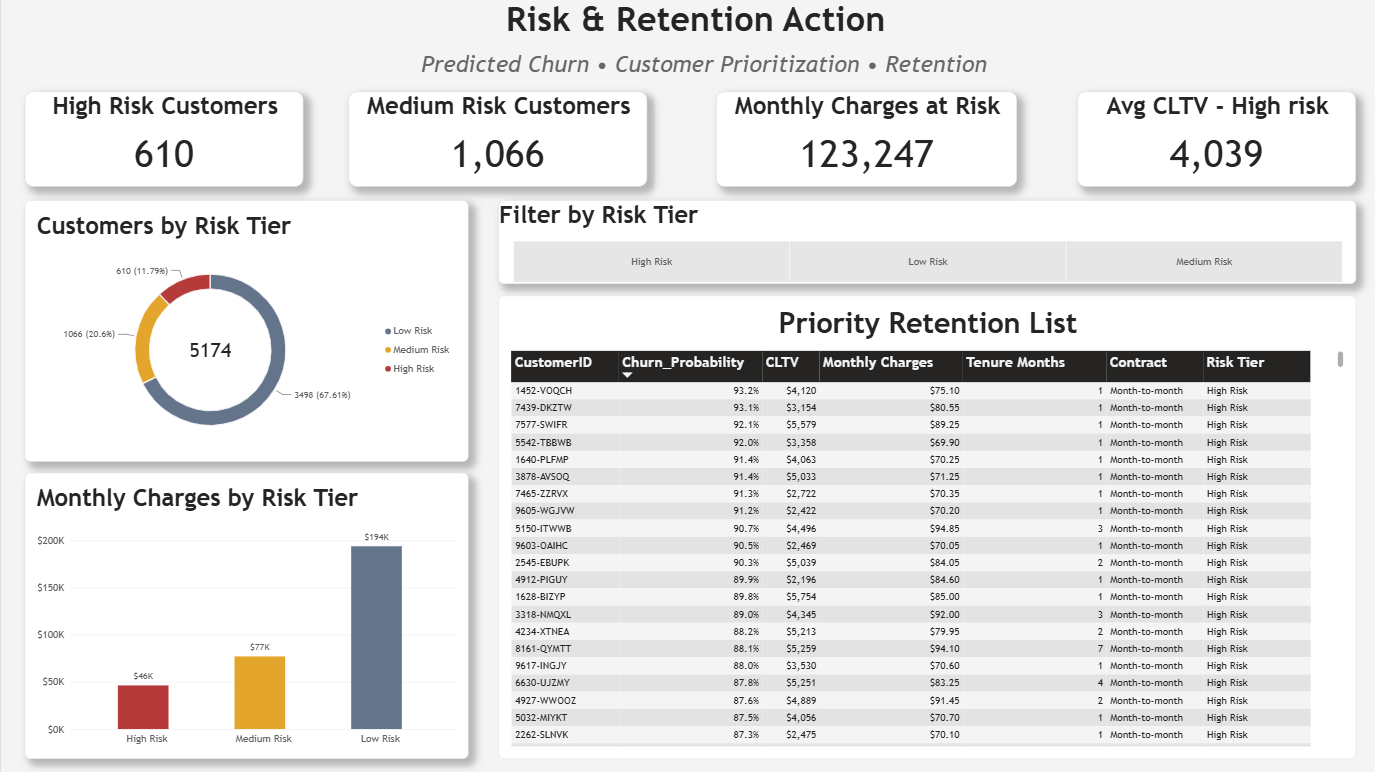

This screenshot's page, from the dashboard's own definition file:
{"tool":"powerbi","page":{"name":"Risk & Retention Action","canvas":[1920,1080],"ordinal":1},"visuals":[{"type":"textbox","box":[10.5,0,1909,129.1],"z":0},{"type":"cardVisual","title":"High Risk Customers","fields":{"Data":["risk_scored_customers.High Risk Customers"]},"box":[33.1,129.1,389,132.6],"z":1000},{"type":"cardVisual","title":"Medium Risk Customers","fields":{"Data":["risk_scored_customers.Medium Risk Customers"]},"box":[484.9,129.1,416.9,132.6],"z":2000},{"type":"cardVisual","title":"Monthly Charges at Risk","fields":{"Data":["risk_scored_customers.Monthly Revenue at Risk"]},"box":[997.7,129.1,420.4,132.6],"z":3000},{"type":"cardVisual","title":"Avg CLTV - High risk","fields":{"Data":["risk_scored_customers.Avg CLTV High Risk"]},"box":[1501.7,129.1,389,132.6],"z":4000},{"type":"donutChart","title":"Customers by Risk Tier","fields":{"Category":["risk_scored_customers.Risk Tier"],"Y":["CountNonNull(risk_scored_customers.CustomerID)"]},"box":[33.1,280.8,619.2,364.5],"z":5000},{"type":"columnChart","title":"Monthly Charges by Risk Tier","fields":{"Category":["risk_scored_customers.Risk Tier"],"Y":["Sum(risk_scored_customers.Monthly Charges)"]},"box":[33.1,661,619.2,399.4],"z":6000},{"type":"tableEx","title":"Priority Retention List","fields":{"Values":["risk_scored_customers.CustomerID","risk_scored_customers.Churn_Probability","risk_scored_customers.CLTV","risk_scored_customers.Monthly Charges","risk_scored_customers.Tenure Months","risk_scored_customers.Contract","risk_scored_customers.Risk Tier"]},"box":[694.2,413.4,1196.5,647.1],"z":7000},{"type":"slicer","title":"Filter by Risk Tier","fields":{"Values":["risk_scored_customers.Risk Tier"]},"box":[694.2,280.8,1196.5,116.9],"z":8000}]}

Visuals, with their boxes in screenshot pixels (x1, y1, x2, y2), scaled from the page's 1920x1080 canvas onto the 1375x772 screenshot:
textbox: <region>8, 0, 1374, 92</region>
"High Risk Customers" cardVisual: <region>24, 92, 302, 187</region>
"Medium Risk Customers" cardVisual: <region>347, 92, 646, 187</region>
"Monthly Charges at Risk" cardVisual: <region>714, 92, 1016, 187</region>
"Avg CLTV - High risk" cardVisual: <region>1075, 92, 1354, 187</region>
"Customers by Risk Tier" donutChart: <region>24, 201, 467, 461</region>
"Monthly Charges by Risk Tier" columnChart: <region>24, 472, 467, 758</region>
"Priority Retention List" tableEx: <region>497, 296, 1354, 758</region>
"Filter by Risk Tier" slicer: <region>497, 201, 1354, 284</region>
